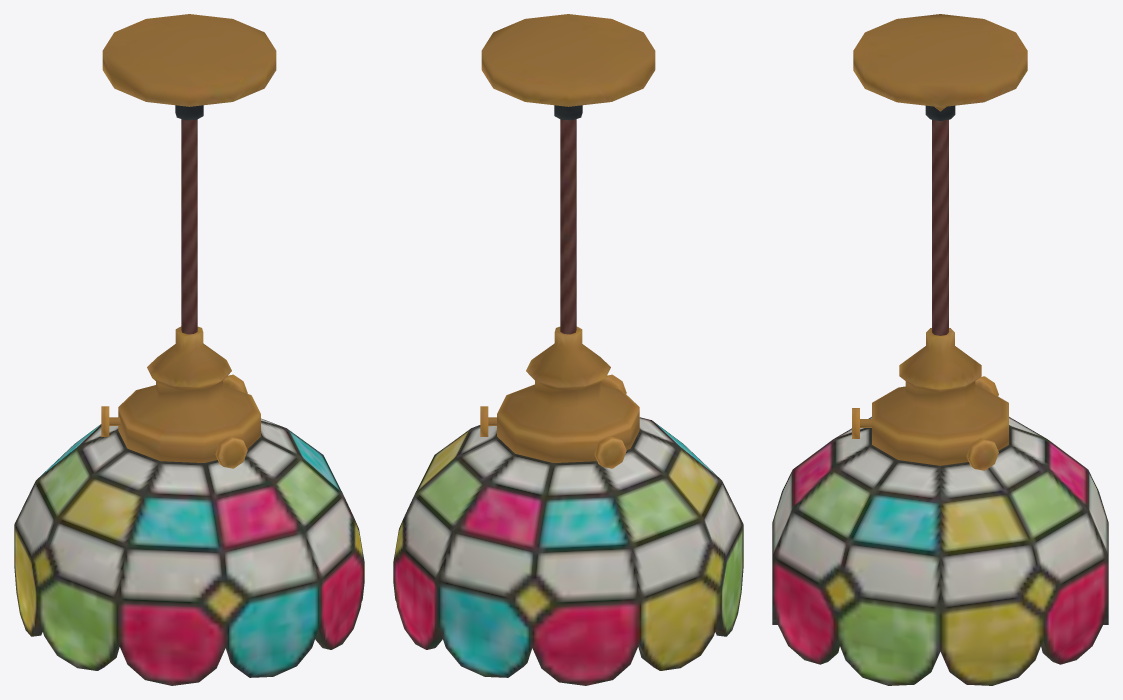
3 renders of one model, left to right at view 1: azimuth 30°, elevation 25°; view 2: azimuth 150°, elevation 25°; view 3: azimuth 270°, elevation 25°, orthographic.
Bounding box in the file's own units: 6.59 × 11.65 × 6.26.
Materials: 1 (1 with a texture image).
